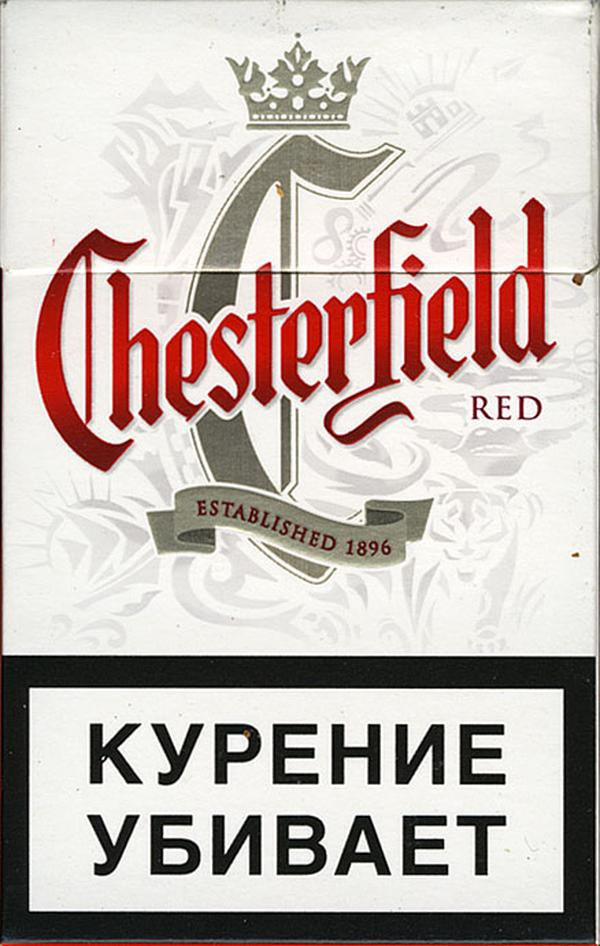chesterfield_red: (1, 1, 593, 943)
